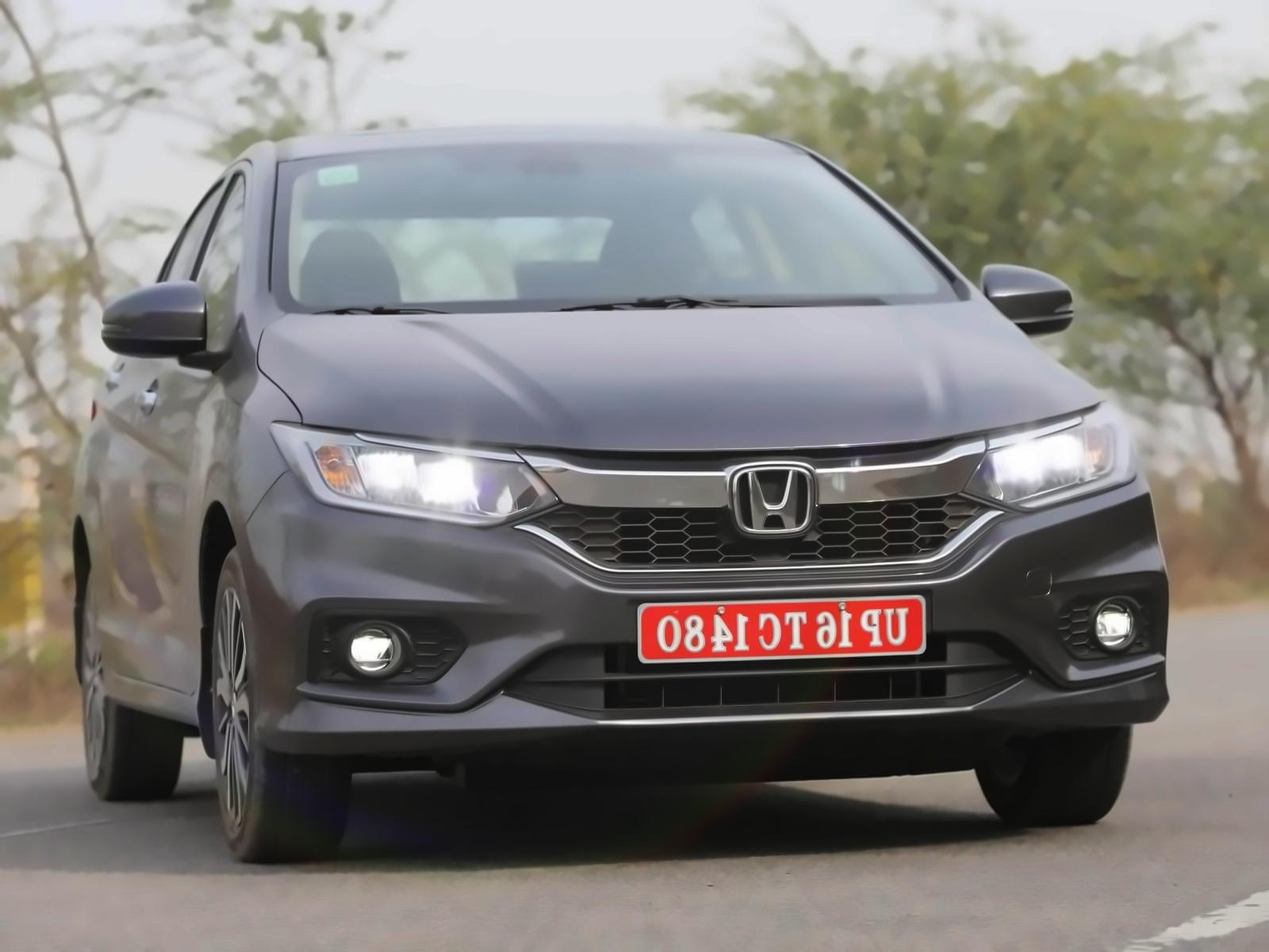Car hood: (244, 286, 1149, 490)
Driver-s door - -F-R-: (130, 133, 283, 718)
Front bumper: (214, 459, 1190, 770)
Headlight - -L-: (958, 394, 1152, 516)
Headlight - -R-: (267, 416, 568, 535)
Side bumper - -R-: (83, 646, 237, 749)
Side mirror - -L-: (971, 259, 1080, 346)
Side mirror - -R-: (100, 278, 213, 367)
